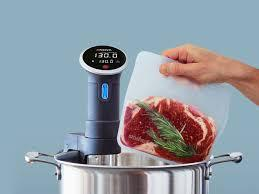Electronics: (72, 38, 118, 151)
Organic: (124, 93, 222, 159)
